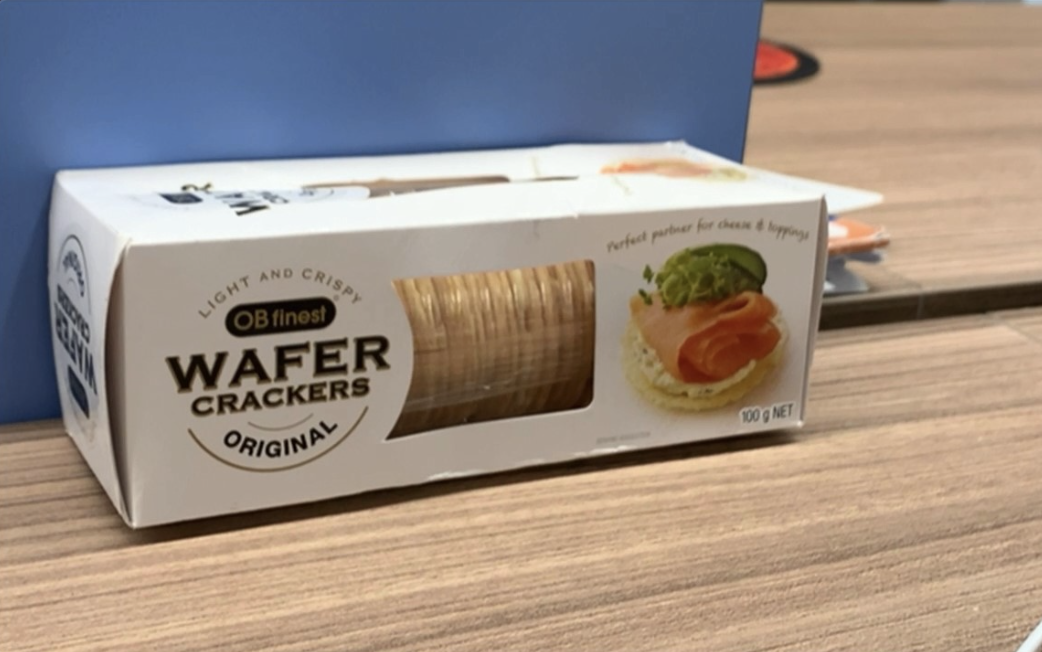crackers_100g-199g: (156, 223, 809, 449)
